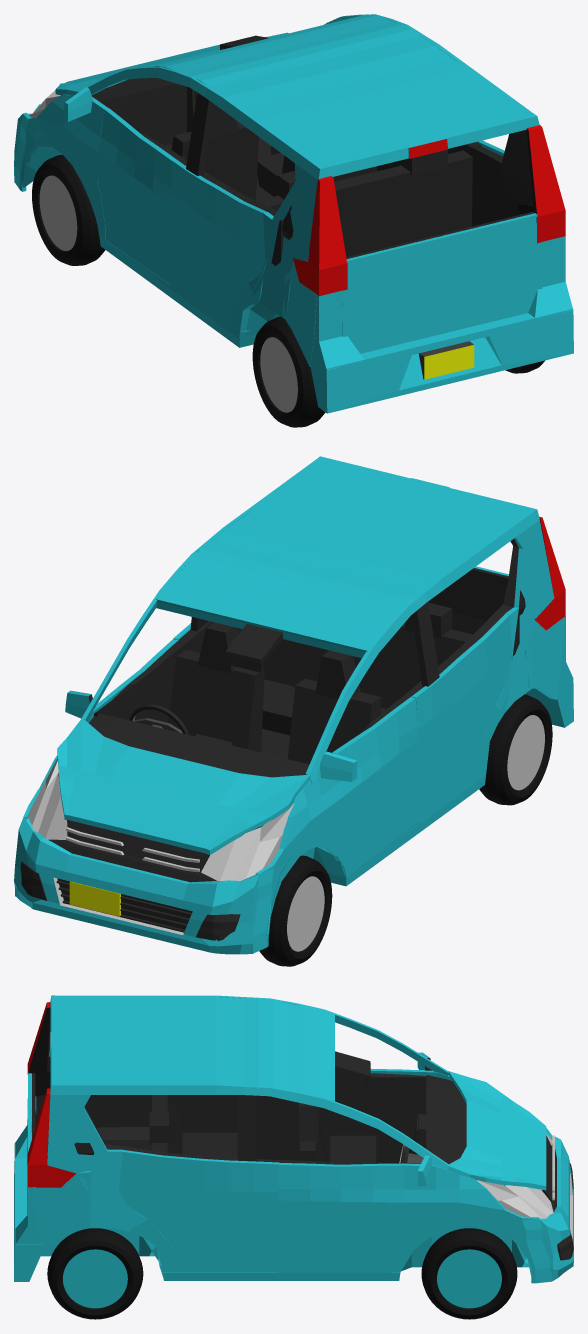
Rendered from keizidousya.obj.
3 views of the same model, one above another, from view 1: azimuth 30°, elevation 25°; view 2: azimuth 150°, elevation 25°; view 3: azimuth 270°, elevation 25° (orthographic). The views are drawn at different scales.
Parts seen in each view (by area): view 1: 立方体.016, 立方体.063, 立方体, 立方体.038, 立方体.053, 立方体.035, 立方体.005, 立方体.039, 立方体.019, 立方体.057, トーラス.001, 立方体.015 (+27 smaller); view 2: 立方体.016, 立方体.021, 立方体.024, 立方体.038, 立方体.057, 立方体.035, 立方体.053, 立方体.039, 立方体.005, 立方体.019, 立方体.015, 立方体.030 (+32 smaller); view 3: 立方体.016, 立方体.037, 立方体.036, 立方体.045, 立方体.021, 立方体.006, 立方体.020, 立方体.013, トーラス.002, トーラス, 立方体.004, 立方体.039 (+30 smaller).
Part boxes in pixels (box(x1,y1,x2,y2)): 立方体.016: box(155, 14, 530, 166); 立方体.063: box(342, 213, 542, 353); 立方体: box(310, 308, 573, 413); 立方体.038: box(170, 160, 268, 331); 立方体.053: box(257, 150, 472, 256); 立方体.035: box(97, 108, 176, 288); 立方体.005: box(248, 163, 322, 318); 立方体.039: box(91, 78, 186, 145); 立方体.019: box(37, 94, 108, 240); 立方体.057: box(171, 121, 377, 200); トーラス.001: box(32, 154, 105, 265); 立方体.015: box(88, 66, 321, 178); 立方体.016: box(156, 459, 530, 652); 立方体.021: box(57, 719, 310, 855); 立方体.024: box(14, 817, 259, 954); 立方体.038: box(411, 613, 511, 825); 立方体.057: box(168, 649, 380, 764); 立方体.035: box(332, 697, 417, 871); 立方体.053: box(263, 623, 472, 708); 立方体.039: box(89, 713, 309, 777); 立方体.005: box(495, 520, 554, 711); 立方体.019: box(279, 753, 351, 877); 立方体.015: box(305, 509, 537, 783); 立方体.030: box(49, 820, 216, 882); 立方体.016: box(55, 996, 334, 1101); 立方体.037: box(119, 1149, 279, 1272); 立方体.036: box(278, 1163, 404, 1272); 立方体.045: box(174, 1072, 426, 1163); 立方体.021: box(447, 1071, 546, 1190); 立方体.006: box(47, 1093, 147, 1231); 立方体.020: box(391, 1163, 505, 1272); 立方体.013: box(53, 1083, 448, 1169); トーラス.002: box(47, 1228, 143, 1319); トーラス: box(421, 1228, 517, 1319); 立方体.004: box(32, 1171, 90, 1246); 立方体.039: box(426, 1075, 466, 1163).
Size of the model in its own units: 1.19 by 1.08 by 2.37.
